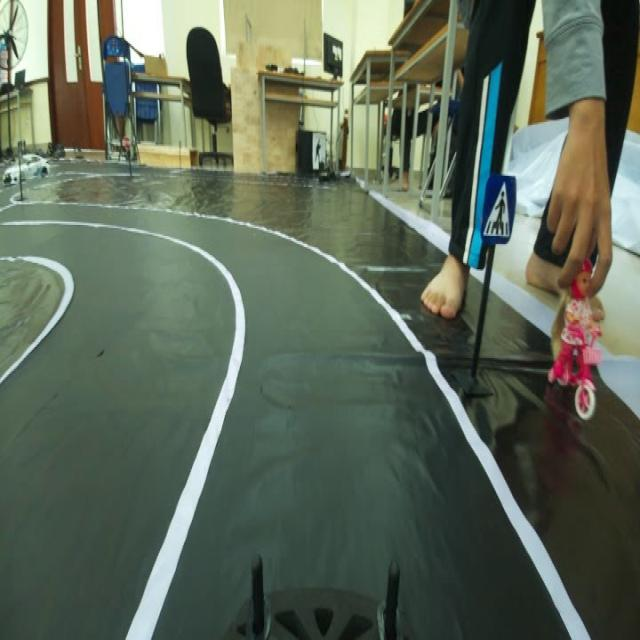crosswalk: (481, 166, 516, 252)
